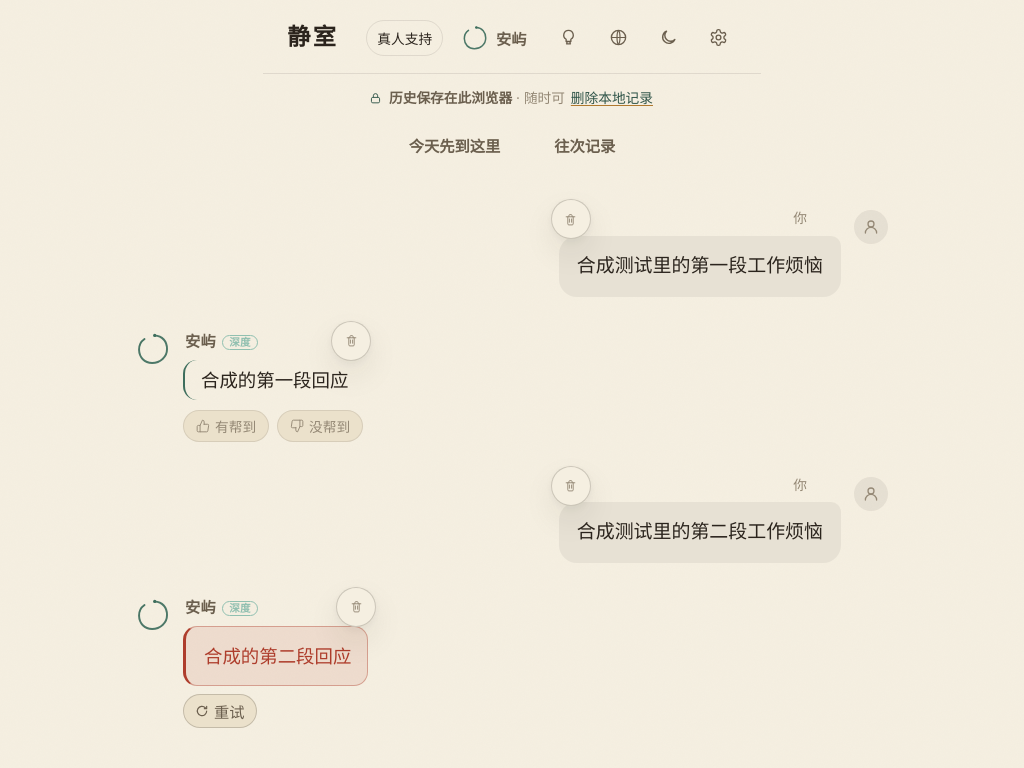
App deletion and request lifetime › invalidates a pending understanding before retrying a failed turn
The width and height of the screenshot is (1024, 768).
Click the button named "对你的理解".
click(569, 38)  # box [551,20,587,56]
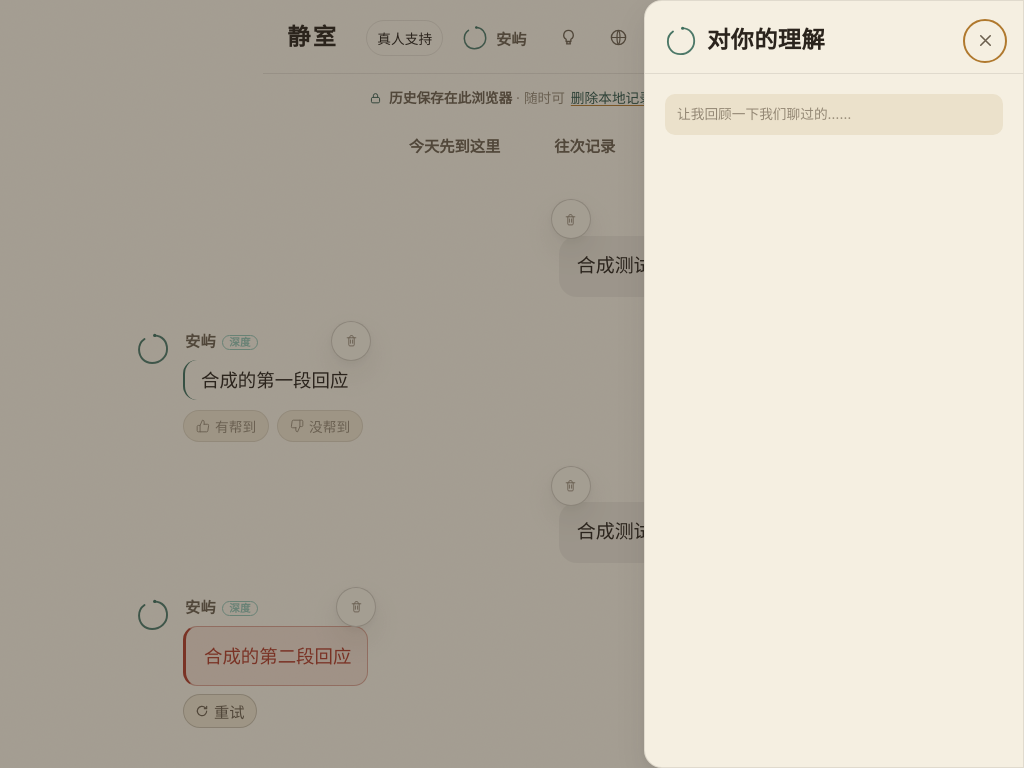
Press Escape
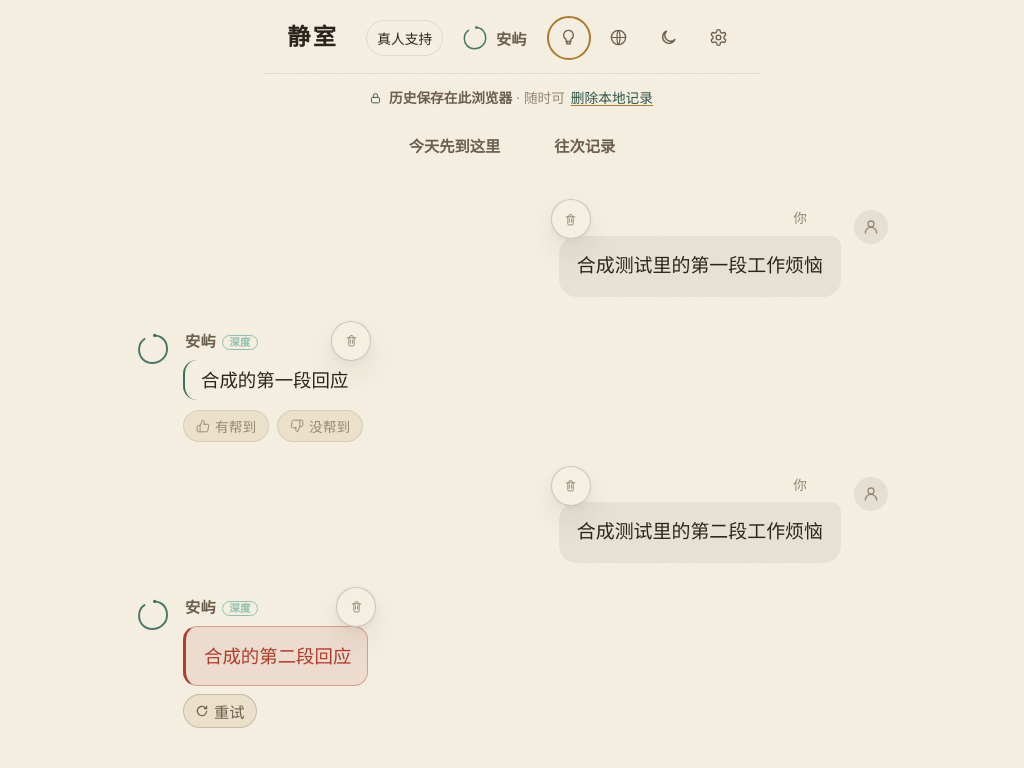
Click the button "重试".
click(220, 711)  # box [183,694,256,728]
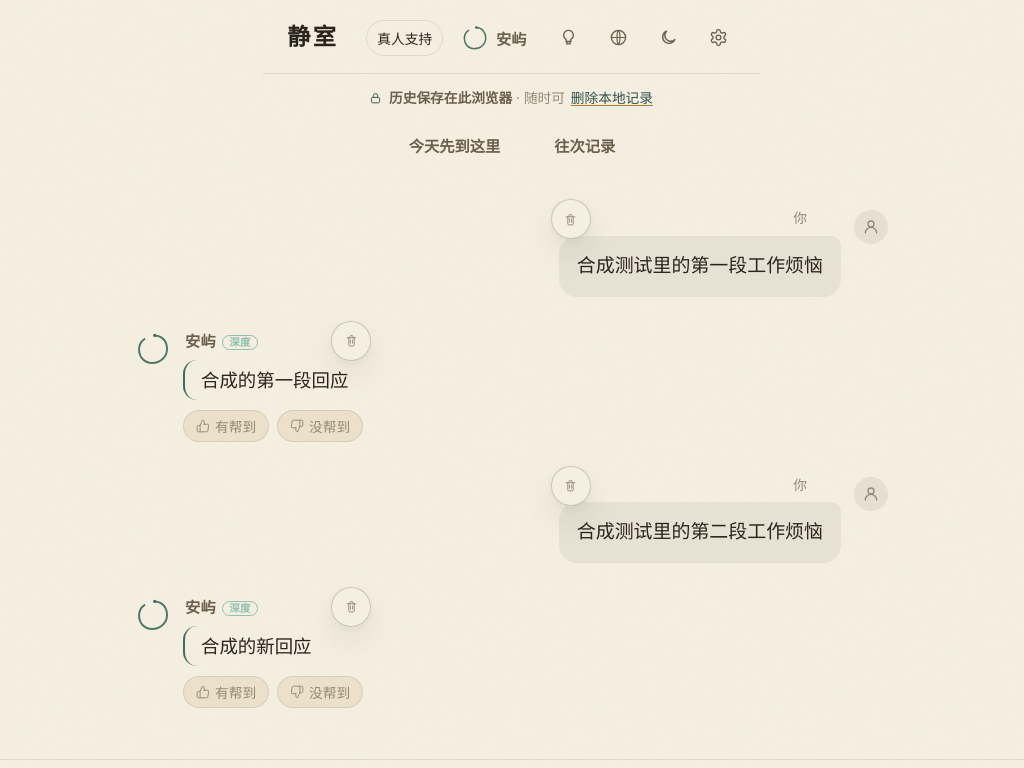
Expected: the text "合成的新回应" is shown, [201,635,312,657]
